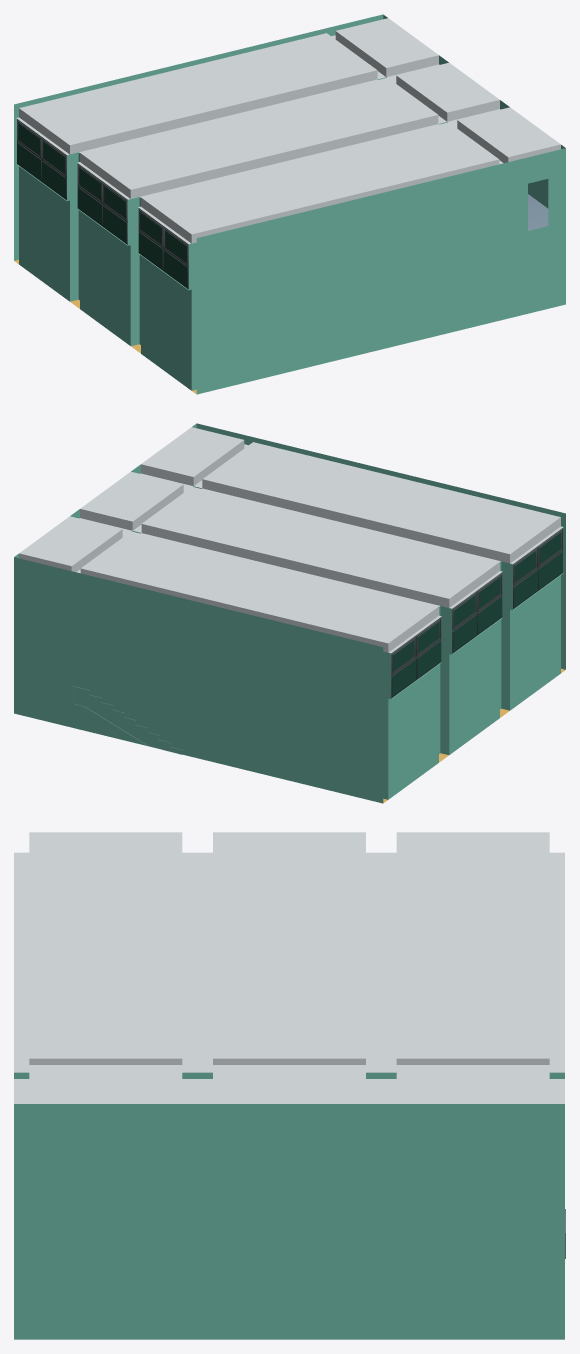
Rendered from LabKlein.fbx.
3 renders of one model, top to bottom at view 1: azimuth 30°, elevation 25°; view 2: azimuth 150°, elevation 25°; view 3: azimuth 270°, elevation 25°, orthographic. The views are drawn at different scales.
Visible parts, largest first — view 1: pPlane7; view 2: pPlane7; view 3: pPlane7.
Part boxes in pixels (x1,y1,x2,y2): pPlane7: (14,14,565,394); pPlane7: (14,423,565,803); pPlane7: (14,832,565,1339).
Size of the model in its own units: 21.17 by 8.5 by 18.03.
